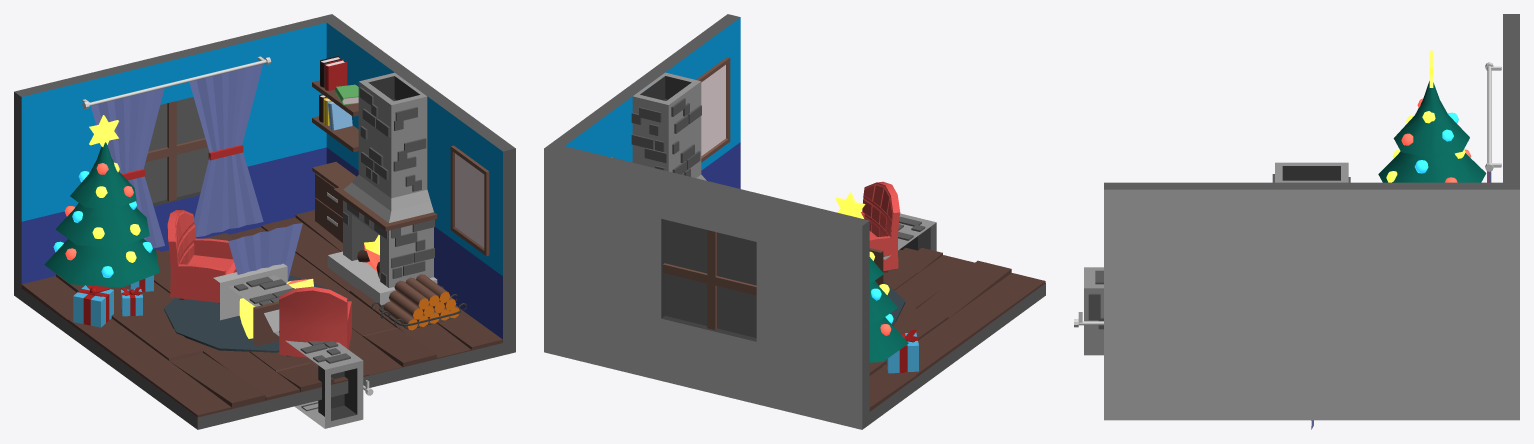
File: Pair1_TWEAKED_both_walls.glb
3 renders of one model, left to right at view 1: azimuth 30°, elevation 25°; view 2: azimuth 150°, elevation 25°; view 3: azimuth 270°, elevation 25°, orthographic. The views are drawn at different scales.
Visible parts, largest first — view 1: Room, Floor, Fireplace, Christmas_tree, Curtain2, Fireplace_Mirror, Curtain1, Chair1, Chair2, Glass, Picture, Rug (+12 smaller); view 2: Room, Floor, Glass, Fireplace, Christmas_tree, Picture, Chair2, Window, Fireplace_Mirror, Present1; view 3: Room, Christmas_tree, Fireplace_Mirror, Fireplace, Curtain_rod_Material #246_0.
Boxes of the visible parts, bbox=[...] form: Room: bbox=[14, 14, 515, 429]; Floor: bbox=[21, 210, 502, 417]; Fireplace: bbox=[327, 72, 437, 305]; Christmas_tree: bbox=[44, 115, 159, 294]; Curtain2: bbox=[189, 64, 263, 236]; Fireplace_Mirror: bbox=[213, 263, 363, 428]; Curtain1: bbox=[91, 88, 164, 248]; Chair1: bbox=[167, 210, 236, 303]; Chair2: bbox=[279, 286, 351, 357]; Glass: bbox=[144, 97, 209, 202]; Picture: bbox=[450, 145, 489, 256]; Rug: bbox=[164, 276, 338, 352]; Room: bbox=[544, 14, 1045, 429]; Floor: bbox=[869, 247, 1045, 411]; Glass: bbox=[664, 219, 756, 337]; Fireplace: bbox=[631, 72, 706, 180]; Christmas_tree: bbox=[835, 192, 908, 362]; Picture: bbox=[696, 57, 730, 162]; Chair2: bbox=[861, 181, 900, 272]; Window: bbox=[663, 230, 756, 329]; Fireplace_Mirror: bbox=[869, 213, 936, 285]; Present1: bbox=[886, 329, 918, 373]; Room: bbox=[1104, 14, 1519, 420]; Christmas_tree: bbox=[1378, 50, 1486, 182]; Fireplace_Mirror: bbox=[1084, 267, 1103, 355]; Fireplace: bbox=[1272, 162, 1350, 182]; Curtain_rod_Material #246_0: bbox=[1485, 62, 1501, 171].
Size of the model in its own units: 400 by 326 by 429.
Materials: 2 (1 with a texture image).
